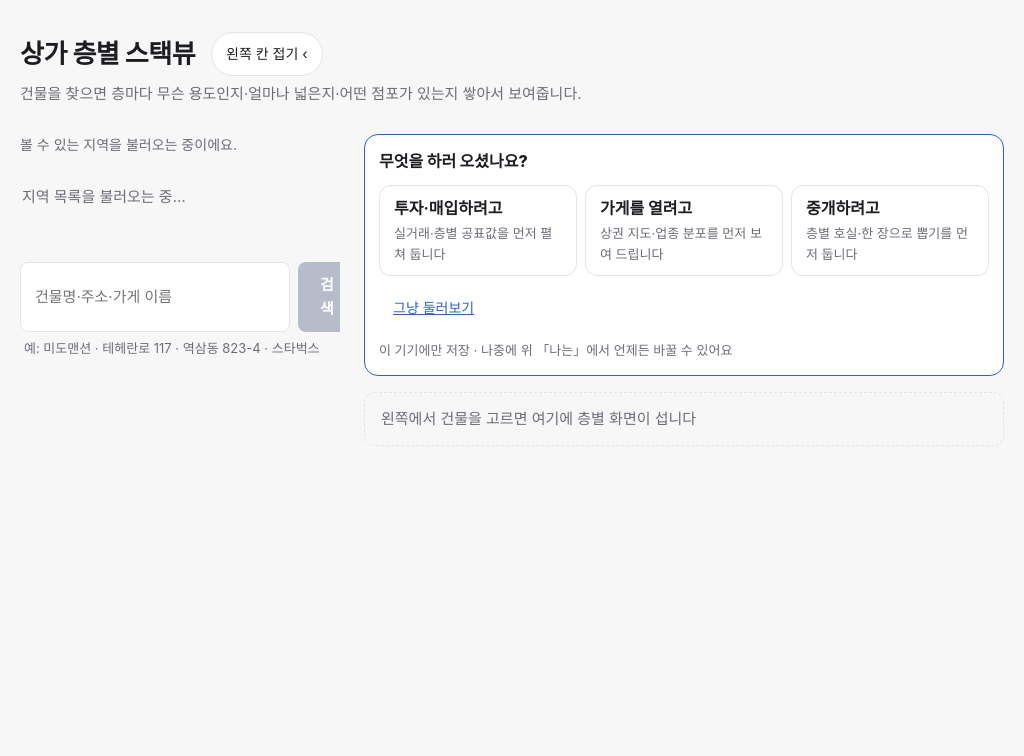
it: PC 두 칸 왼쪽 칸 다듬기 — 배선 (👤 2026-10-22) › ★ L6 보완 1 — 왼쪽 칸을 띠로 접은 채 오른쪽 큰 카드를 고르면 커서는 띠의 펼치기 단추(숨은 칸·BODY 아님 · 검사 🟡d)
Click the button "왼쪽 칸 접기 ‹".
click(267, 54)  # box [211,32,323,76]
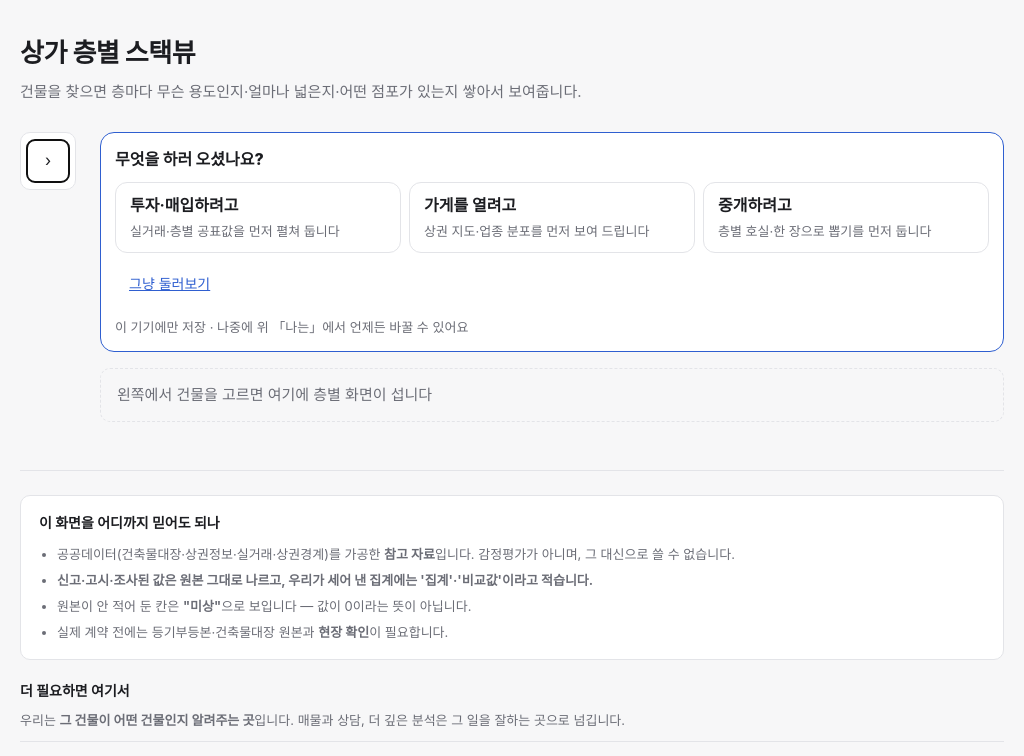
Click the button "투자·매입하려고 실거래·층별 공표값을 먼저 펼쳐 둡니다".
click(184, 205)  # box [115,182,401,253]
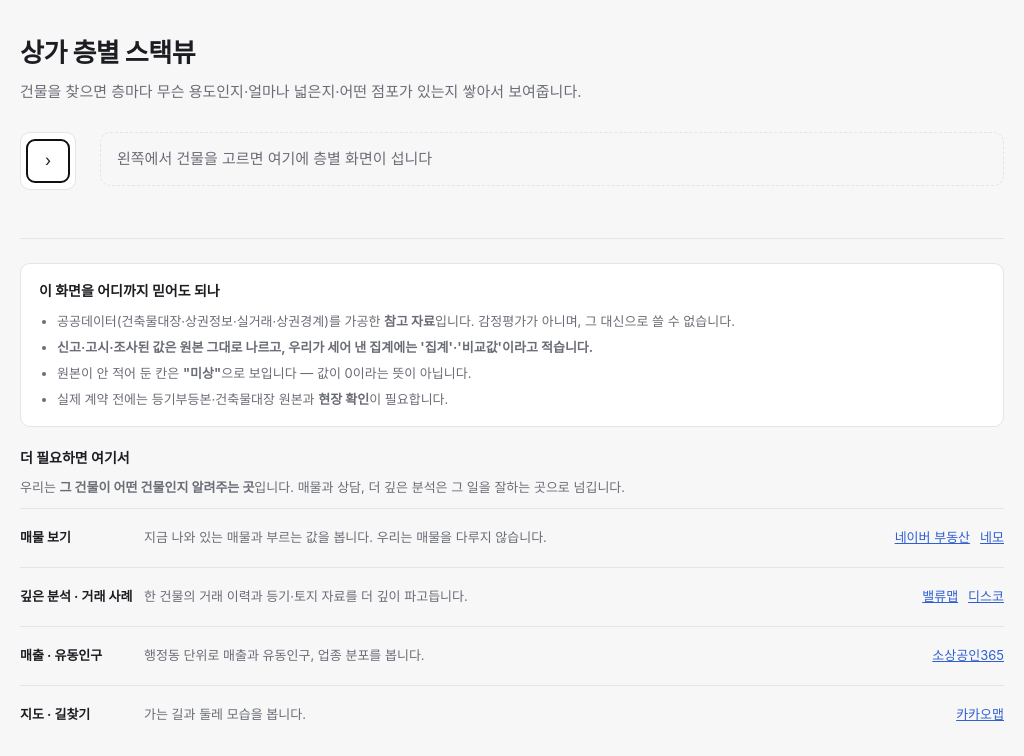
Check: the element with class "rolecards" is gone
